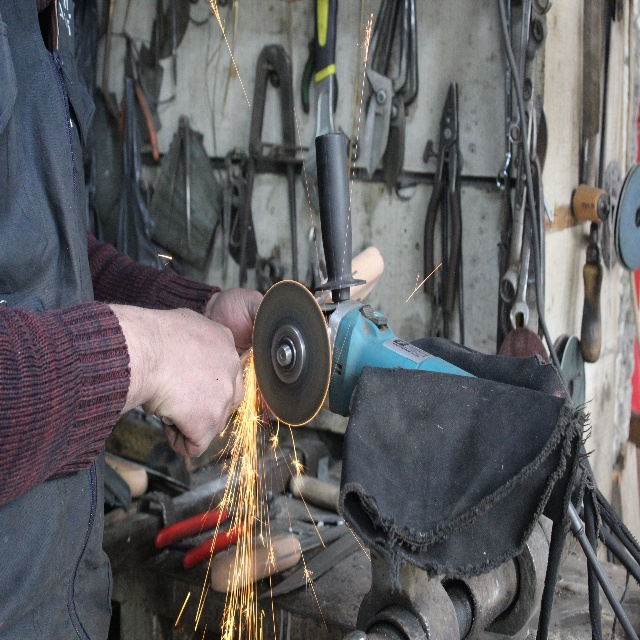Sin_guantes: (140, 308, 245, 458), (210, 285, 263, 358)
